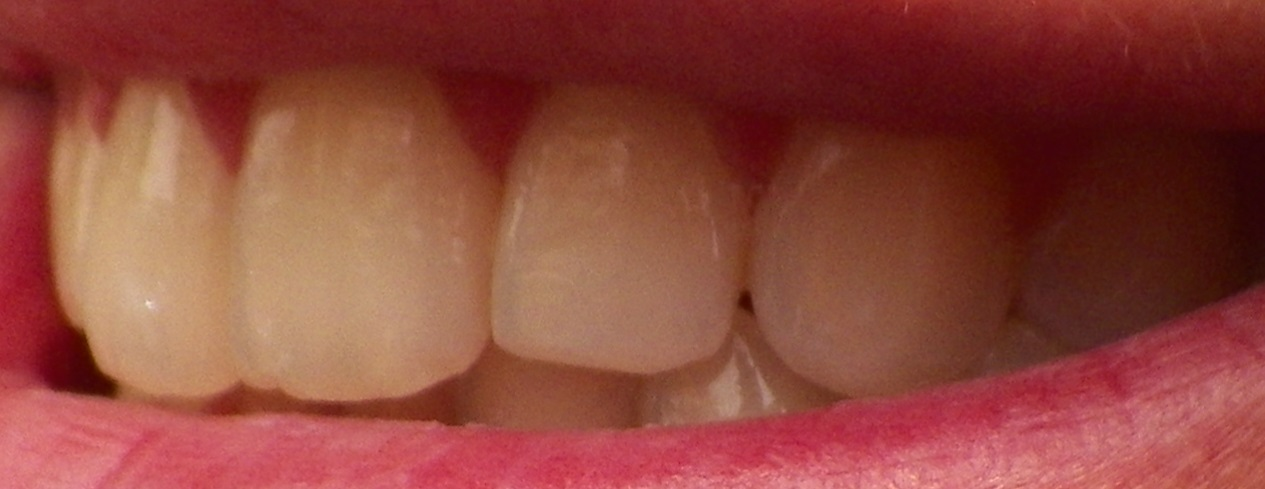boca: (34, 45, 1234, 440)
